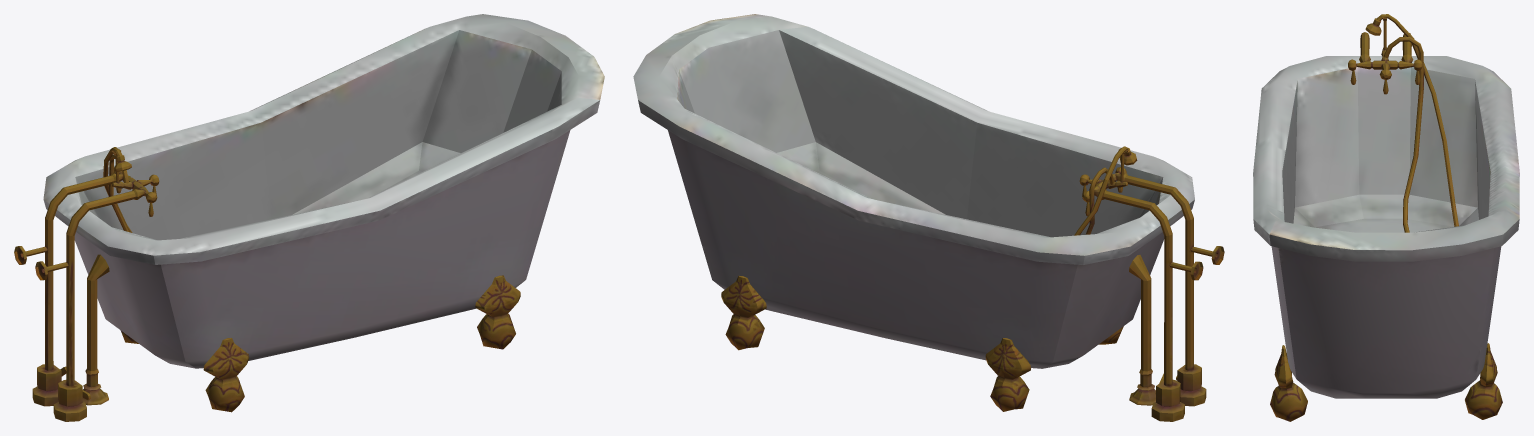
The model's file is bano_bathtub_game_ready_asset.glb.
The picture shows the model from 3 angles, left to right: view 1: azimuth 30°, elevation 25°; view 2: azimuth 150°, elevation 25°; view 3: azimuth 270°, elevation 25°; orthographic projection.
Visible parts, largest first — view 1: bath_01_low_lambert1_0; view 2: bath_01_low_lambert1_0; view 3: bath_01_low_lambert1_0.
Part boxes in pixels (x1=…): bath_01_low_lambert1_0: x1=14, y1=14, x2=604, y2=421; bath_01_low_lambert1_0: x1=633, y1=14, x2=1224, y2=421; bath_01_low_lambert1_0: x1=1253, y1=14, x2=1519, y2=421.
Bounding box in the file's own units: 1.64 × 0.7 × 0.6906.
Materials: 1 (1 with a texture image).
